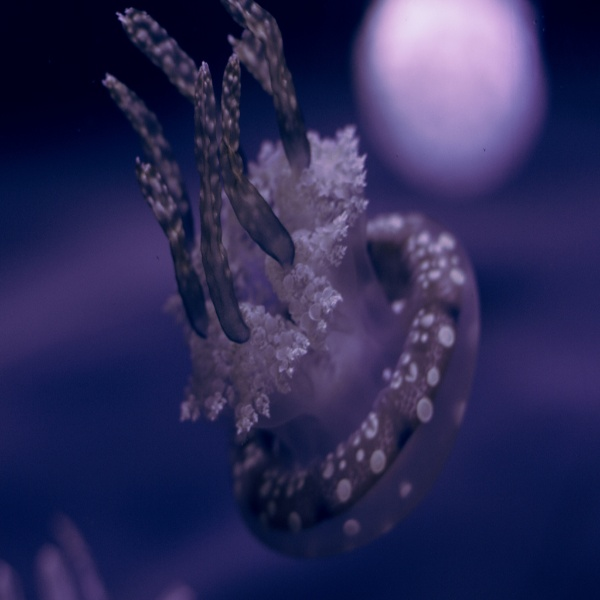Jellyfish: (107, 23, 497, 548)
